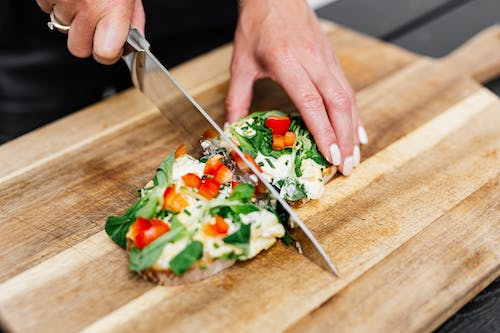knife: (120, 28, 339, 278)
